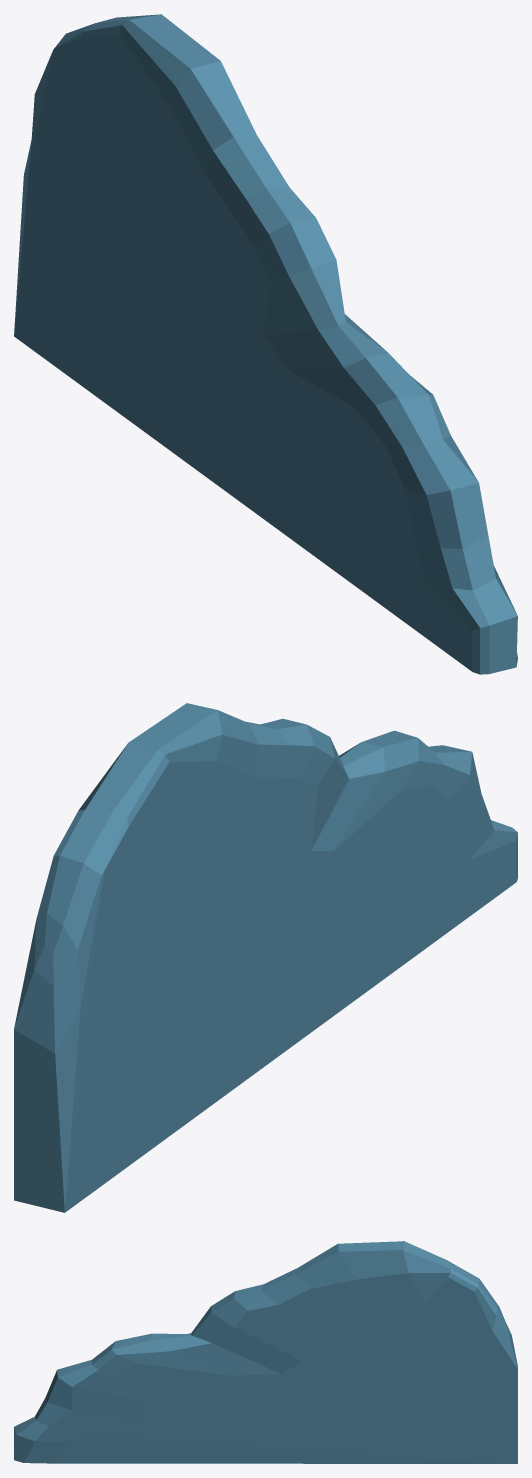
The model's file is GJ_Decor_Wall_01.fbx.
3 views of the same model, one above another, from view 1: azimuth 30°, elevation 25°; view 2: azimuth 150°, elevation 25°; view 3: azimuth 270°, elevation 25° (orthographic). The views are drawn at different scales.
Parts seen in each view (by area): view 1: GJ_Decor_Wall_01; view 2: GJ_Decor_Wall_01; view 3: GJ_Decor_Wall_01.
Part boxes in pixels (left/top/right/bottom): GJ_Decor_Wall_01: left=14, top=14, right=517, bottom=674; GJ_Decor_Wall_01: left=14, top=703, right=517, bottom=1212; GJ_Decor_Wall_01: left=14, top=1241, right=517, bottom=1463.
Bounding box in the file's own units: 2.07 × 14.96 × 32.26.
